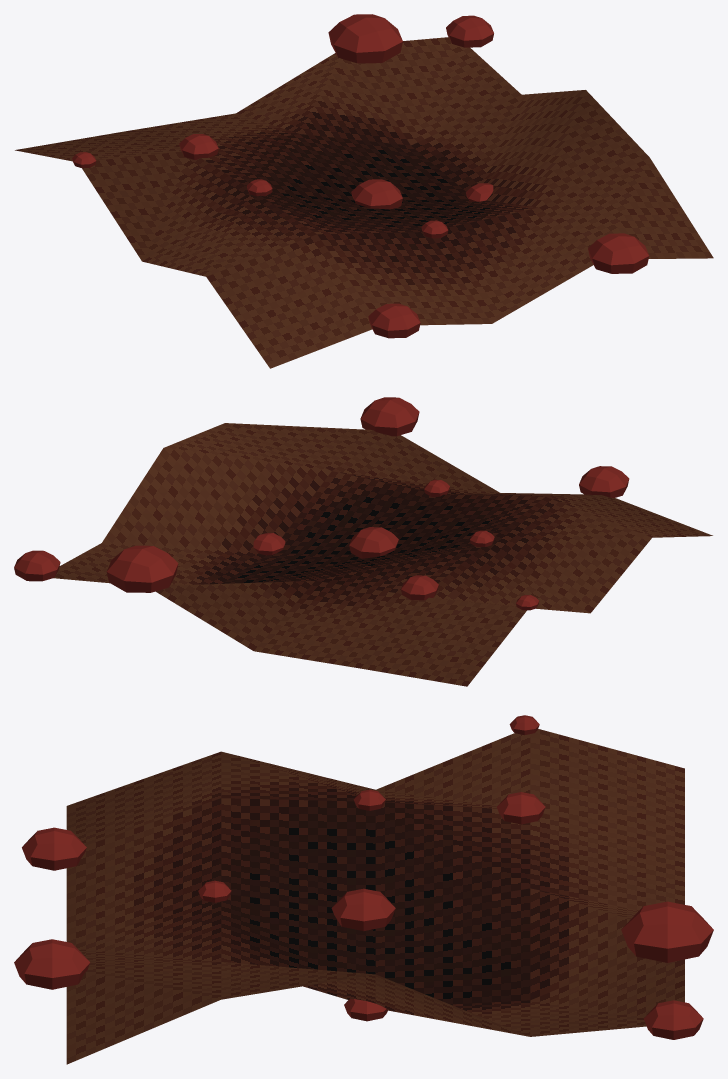
File: SoilUntilled2.fbx
The picture shows the model from 3 angles, top to bottom: view 1: azimuth 30°, elevation 25°; view 2: azimuth 150°, elevation 25°; view 3: azimuth 270°, elevation 25°; orthographic projection. The views are drawn at different scales.
Parts seen in each view (by area): view 1: Plane.002, Plane.002|Cube.006|Dupli|1, Plane.002|Cube.006|Dupli|10, Plane.002|Cube.006|Dupli|6, Plane.002|Cube.006|Dupli|9, Plane.002|Cube.006|Dupli|4, Plane.002|Cube.006|Dupli|3; view 2: Plane.002, Plane.002|Cube.006|Dupli|1, Plane.002|Cube.006|Dupli|10, Plane.002|Cube.006|Dupli|6, Plane.002|Cube.006|Dupli|9, Plane.002|Cube.006|Dupli|4, Plane.002|Cube.006|Dupli|3, Plane.002|Cube.006|Dupli|8; view 3: Plane.002, Plane.002|Cube.006|Dupli|1, Plane.002|Cube.006|Dupli|10, Plane.002|Cube.006|Dupli|6, Plane.002|Cube.006|Dupli|9, Plane.002|Cube.006|Dupli|4, Plane.002|Cube.006|Dupli|3, Plane.002|Cube.006|Dupli|8, Plane.002|Cube.006|Dupli|2.
Boxes of the visible parts, x1,y1,x2,y2 form: Plane.002: [15, 37, 713, 368]; Plane.002|Cube.006|Dupli|1: [328, 14, 402, 63]; Plane.002|Cube.006|Dupli|10: [588, 233, 649, 273]; Plane.002|Cube.006|Dupli|6: [368, 303, 420, 338]; Plane.002|Cube.006|Dupli|9: [351, 179, 402, 209]; Plane.002|Cube.006|Dupli|4: [446, 15, 493, 47]; Plane.002|Cube.006|Dupli|3: [179, 134, 218, 159]; Plane.002: [53, 423, 712, 686]; Plane.002|Cube.006|Dupli|1: [106, 545, 178, 592]; Plane.002|Cube.006|Dupli|10: [360, 397, 419, 436]; Plane.002|Cube.006|Dupli|6: [579, 466, 629, 497]; Plane.002|Cube.006|Dupli|9: [349, 527, 398, 558]; Plane.002|Cube.006|Dupli|4: [14, 550, 60, 581]; Plane.002|Cube.006|Dupli|3: [401, 575, 438, 600]; Plane.002|Cube.006|Dupli|8: [253, 533, 285, 555]; Plane.002: [66, 729, 684, 1064]; Plane.002|Cube.006|Dupli|1: [621, 901, 713, 962]; Plane.002|Cube.006|Dupli|10: [14, 939, 90, 989]; Plane.002|Cube.006|Dupli|6: [22, 827, 86, 870]; Plane.002|Cube.006|Dupli|9: [331, 888, 395, 931]; Plane.002|Cube.006|Dupli|4: [643, 1000, 703, 1039]; Plane.002|Cube.006|Dupli|3: [497, 792, 545, 824]; Plane.002|Cube.006|Dupli|8: [344, 999, 387, 1021]; Plane.002|Cube.006|Dupli|2: [198, 880, 231, 902].
Bounding box in the file's own units: 800 × 150 × 839.
